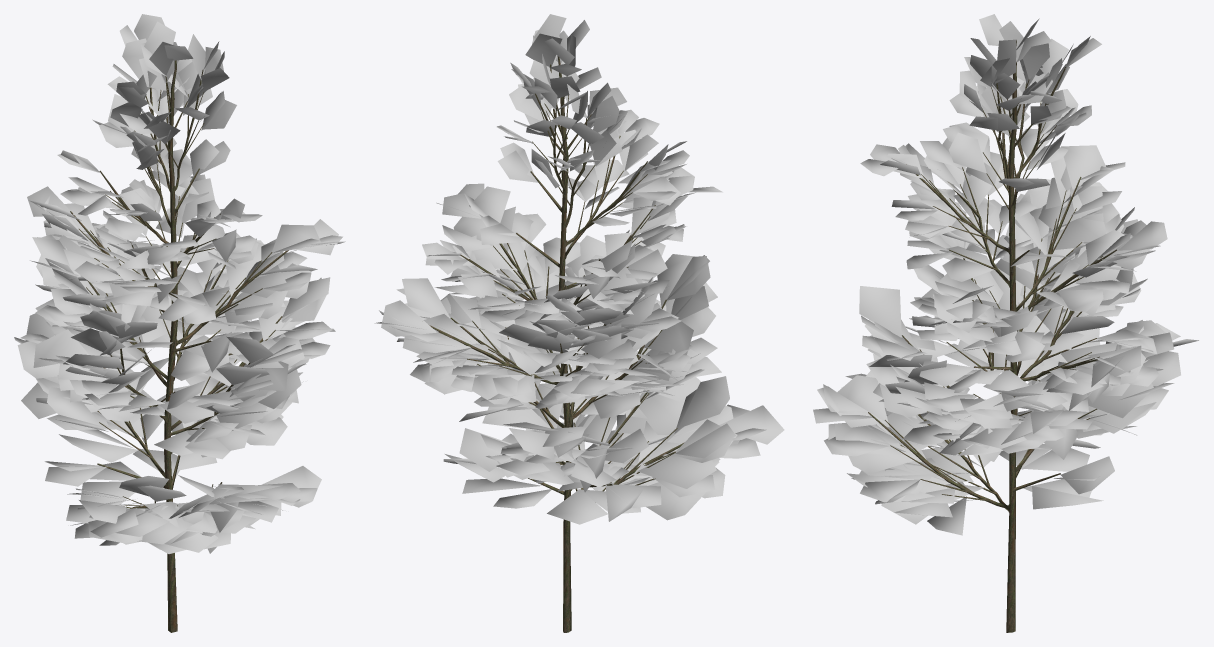
File: Tree_Sm_07_1_L2.fbx
The picture shows the model from 3 angles, left to right: view 1: azimuth 30°, elevation 25°; view 2: azimuth 150°, elevation 25°; view 3: azimuth 270°, elevation 25°; orthographic projection. The views are drawn at different scales.
Parts seen in each view (by area): view 1: polySurface39; view 2: polySurface39; view 3: polySurface39.
Part boxes in pixels (x1,y1,x2,y2): polySurface39: (14, 14, 345, 632); polySurface39: (374, 14, 784, 632); polySurface39: (813, 14, 1198, 632).
Size of the model in its own units: 352 by 662 by 379.
